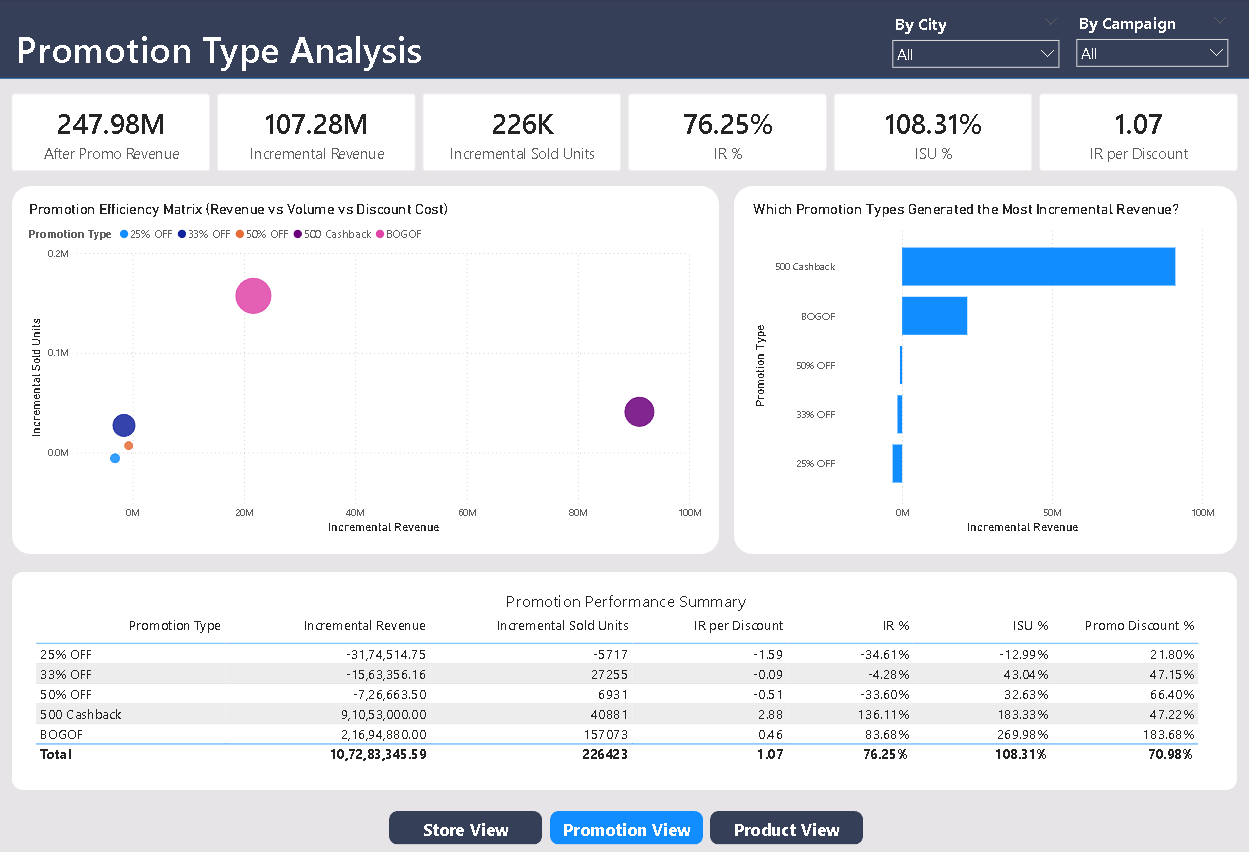

The page's visual inventory and layout, read from the dashboard file:
{"tool":"powerbi","page":{"name":"Promotion View","canvas":[1500,1025],"ordinal":1},"visuals":[{"type":"shape","box":[878.4,224.1,599.5,438.6],"z":0},{"type":"shape","box":[17.9,684.1,1460,259.8],"z":1000},{"type":"shape","box":[17.9,224.1,842.6,438.6],"z":2000},{"type":"scatterChart","fields":{"X":["key_measures.Incremental Revenue"],"Y":["key_measures.Incremental Sold Units"],"Series":["fact_events.promo_type"],"Size":["key_measures.Total Discount Cost"]},"box":[33.4,241.9,811.7,401.7],"z":3000},{"type":"barChart","fields":{"Category":["fact_events.promo_type"],"Y":["key_measures.Incremental Revenue"]},"box":[896.3,241.9,560.2,401.7],"z":4000},{"type":"tableEx","fields":{"Values":["fact_events.promo_type","key_measures.Incremental Revenue","key_measures.Incremental Sold Units","key_measures.IR per Discount","key_measures.IR %","key_measures.ISU %","key_measures.Promo Discount %"]},"box":[40.5,715.1,1418.3,197.8],"z":5000},{"type":"shape","box":[-7.5,0,1507.5,96.2],"z":6000},{"type":"cardVisual","fields":{"Data":["key_measures.After Promo Revenue","key_measures.Incremental Revenue","key_measures.Incremental Sold Units","key_measures.IR %","key_measures.ISU %","key_measures.IR per Discount"]},"box":[0,96.2,1500,127.5],"z":7000},{"type":"actionButton","box":[467.5,968.8,182.5,40],"z":8000},{"type":"actionButton","box":[658.8,968.8,182.5,40],"z":9000},{"type":"actionButton","box":[850,968.8,182.5,40],"z":10000},{"type":"slicer","fields":{"Values":["dim_stores.city"]},"box":[1057.1,12.9,218.6,72.9],"z":11000},{"type":"slicer","fields":{"Values":["dim_campaigns.campaign_name"]},"box":[1276.2,12.5,201.2,72],"z":12000},{"type":"textbox","box":[17.9,25,512.5,71.5],"z":12001}]}

Visuals, with their boxes in screenshot pixels (x1, y1, x2, y2), scaled from the page's 1500x1025 canvas onto the 1249x852 screenshot:
shape: (x1=731, y1=186, x2=1231, y2=551)
shape: (x1=15, y1=569, x2=1231, y2=785)
shape: (x1=15, y1=186, x2=717, y2=551)
scatterChart - key_measures.Incremental Revenue x key_measures.Incremental Sold Units: (x1=28, y1=201, x2=704, y2=535)
barChart - fact_events.promo_type x key_measures.Incremental Revenue: (x1=746, y1=201, x2=1213, y2=535)
tableEx - fact_events.promo_type x key_measures.Incremental Revenue: (x1=34, y1=594, x2=1215, y2=759)
shape: (x1=0, y1=0, x2=1248, y2=80)
cardVisual - key_measures.After Promo Revenue x key_measures.Incremental Revenue: (x1=0, y1=80, x2=1248, y2=186)
actionButton: (x1=389, y1=805, x2=541, y2=839)
actionButton: (x1=549, y1=805, x2=701, y2=839)
actionButton: (x1=708, y1=805, x2=860, y2=839)
slicer - dim_stores.city: (x1=880, y1=11, x2=1062, y2=71)
slicer - dim_campaigns.campaign_name: (x1=1063, y1=10, x2=1230, y2=70)
textbox: (x1=15, y1=21, x2=442, y2=80)
